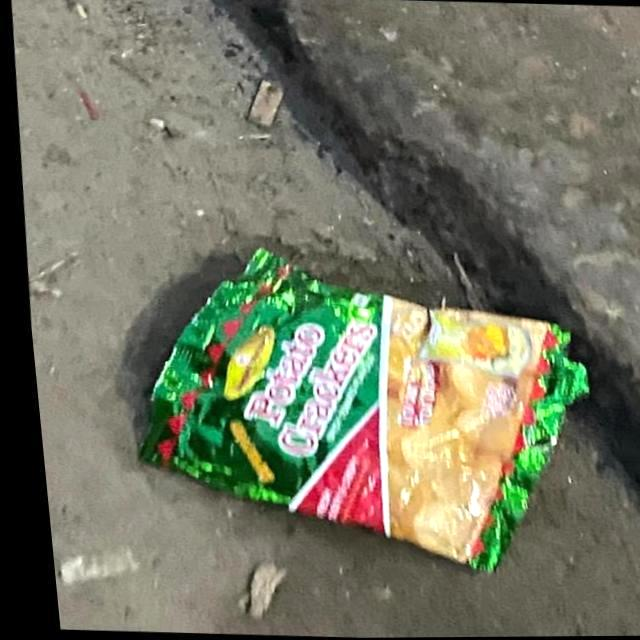packet: (152, 273, 567, 547)
